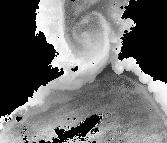CE: (71, 10, 111, 69)
